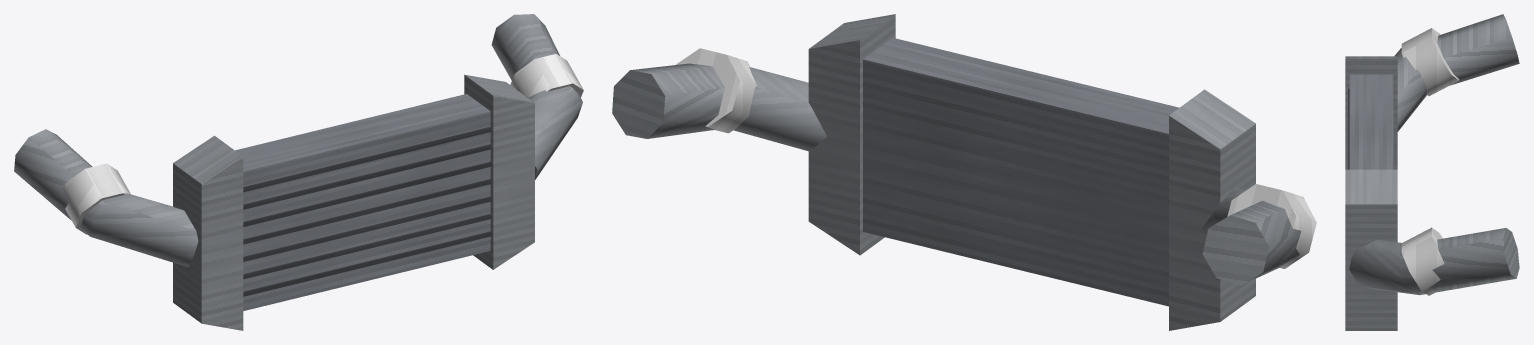
The model's file is intercooler_fabrica.glb.
The picture shows the model from 3 angles, left to right: view 1: azimuth 30°, elevation 25°; view 2: azimuth 150°, elevation 25°; view 3: azimuth 270°, elevation 25°; orthographic projection. The views are drawn at different scales.
Parts seen in each view (by area): view 1: intercooler_fabrica; view 2: intercooler_fabrica; view 3: intercooler_fabrica.
Boxes of the visible parts, box(x1,y1,x2,y2) form: intercooler_fabrica: box(14, 14, 583, 330); intercooler_fabrica: box(612, 14, 1316, 330); intercooler_fabrica: box(1345, 14, 1519, 330).
Bounding box in the file's own units: 0.6363 × 0.2 × 0.1993.
Materials: 2 (2 with a texture image).
